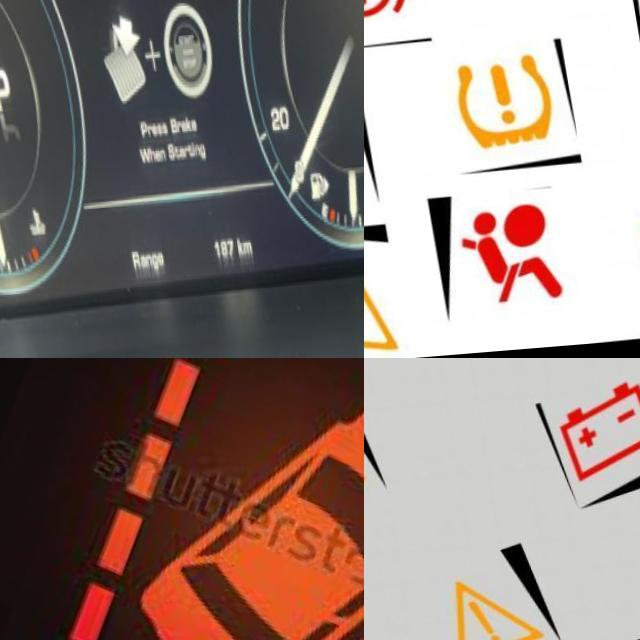High Engine Coolant Temperature: (10, 205, 33, 245)
